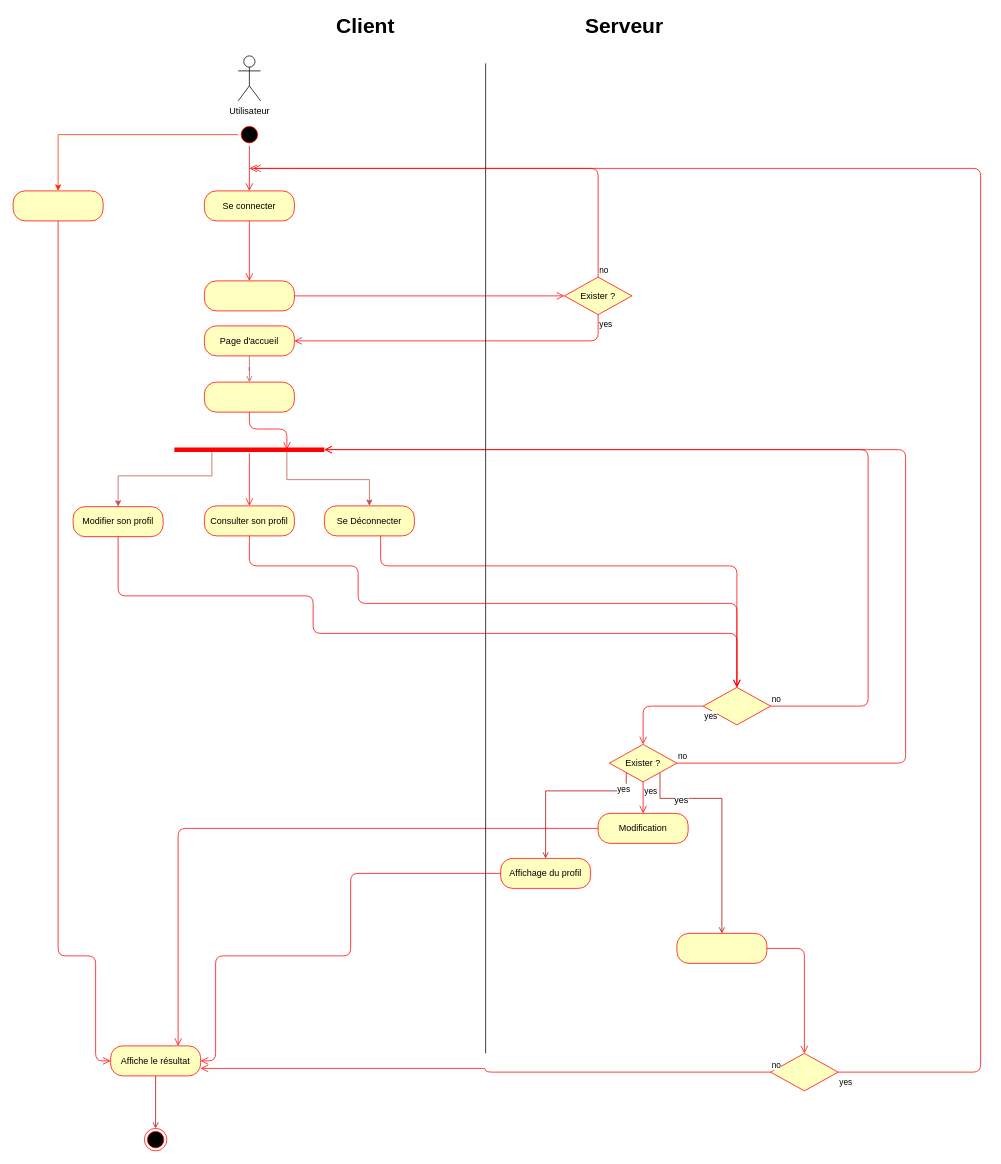
Some shapes in this 1001 by 1164 pixel diagram are drawn without their labels. The shapes that lost their labels are listed below. From the top down, each one's centre as x and y in pixels, then its label:
point (57, 205): Taper son jeu
point (249, 295): Soumet ses informations
point (249, 396): Espace Presse/Joueur
point (736, 706): Autoriser ?
point (721, 948): Déconnexion
point (804, 1072): Continuer ?
